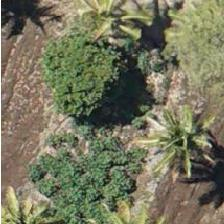coconut_tree: (149, 90, 223, 180), (60, 0, 150, 60)
